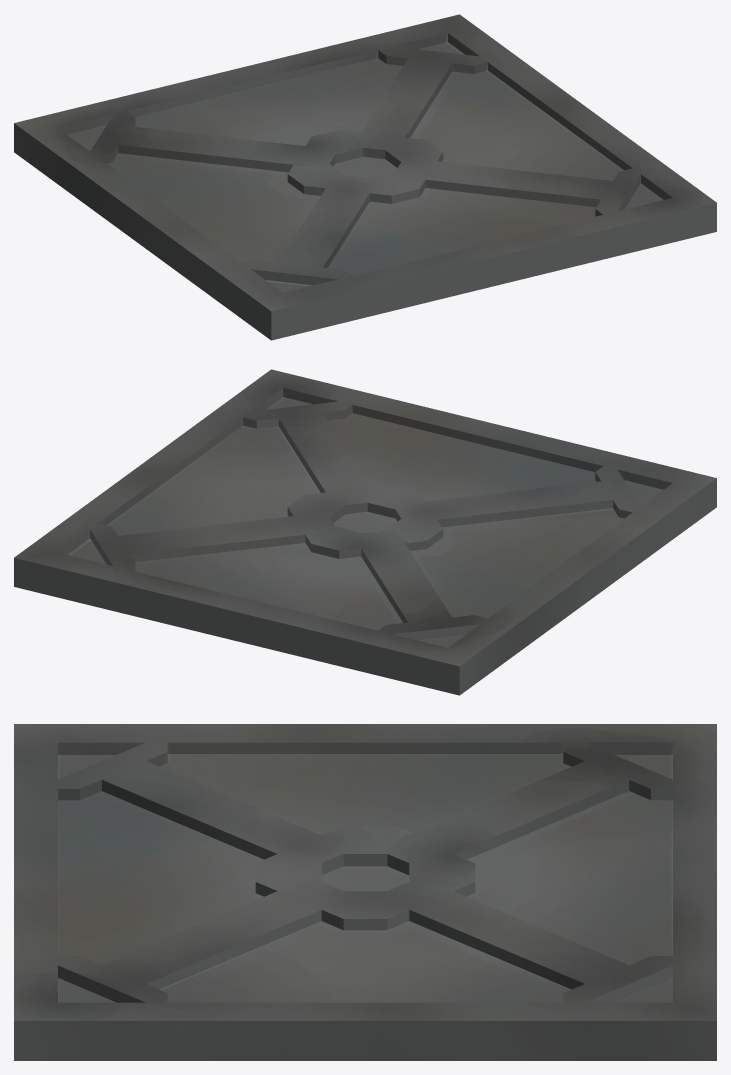
File: wall88.glb
3 views of the same model, one above another, from view 1: azimuth 30°, elevation 25°; view 2: azimuth 150°, elevation 25°; view 3: azimuth 270°, elevation 25° (orthographic). The views are drawn at different scales.
Visible parts, largest first — view 1: Cube; view 2: Cube; view 3: Cube.
Boxes of the visible parts, bbox=[...] form: Cube: bbox=[14, 14, 716, 340]; Cube: bbox=[14, 369, 716, 695]; Cube: bbox=[14, 724, 716, 1060].
Bounding box in the file's own units: 2 × 0.125 × 2.
Materials: 1 (1 with a texture image).
